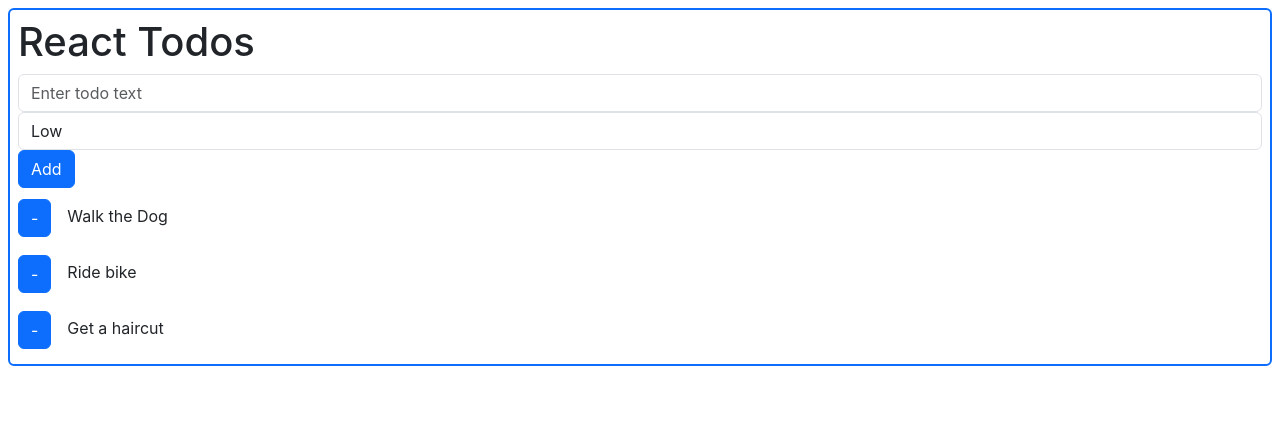
Test: Integration of Todo list components › entering a todo in form adds a todo
Type "My new todo" into the field with placeholder "Enter todo text". click: (640, 93)
box: 18,74 -> 1262,112
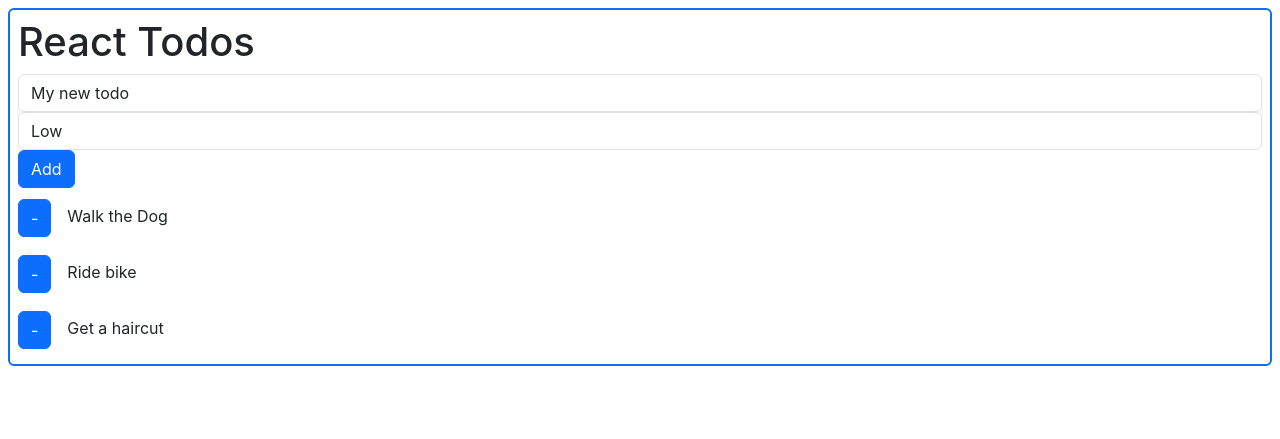
Click the button "Add". click: (46, 169)
box: 18,150 -> 75,188
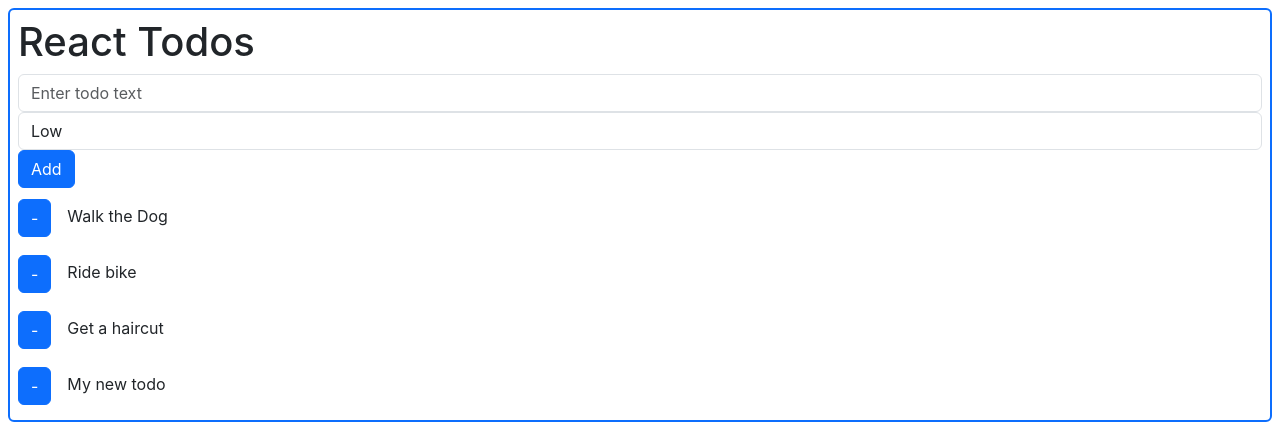
Check: the field with test id "TodoForm-input" is empty, box 18,74 -> 1262,112
Check: the text "My new todo" is shown, box 67,374 -> 166,394
